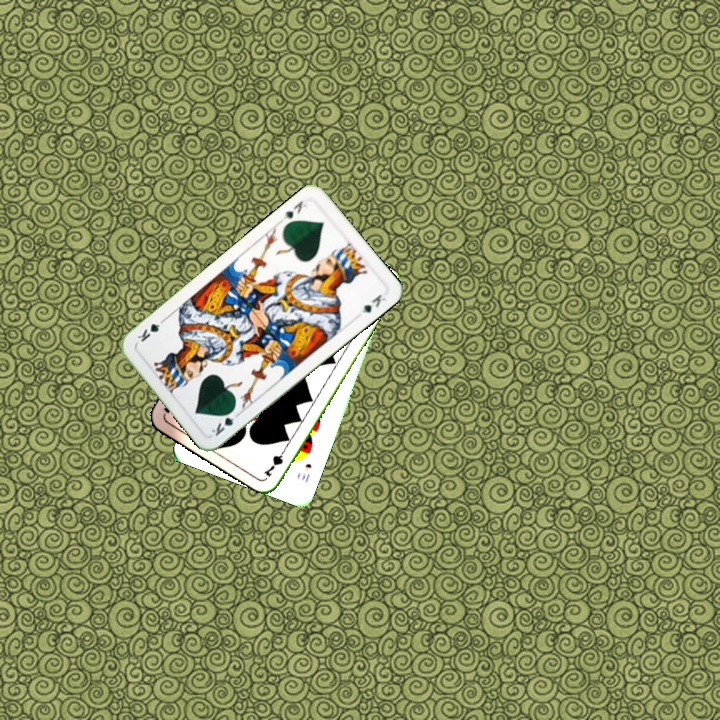G7: (260, 443, 290, 479)
GK: (207, 405, 243, 439), (279, 196, 310, 222)
S10: (298, 459, 314, 485)
